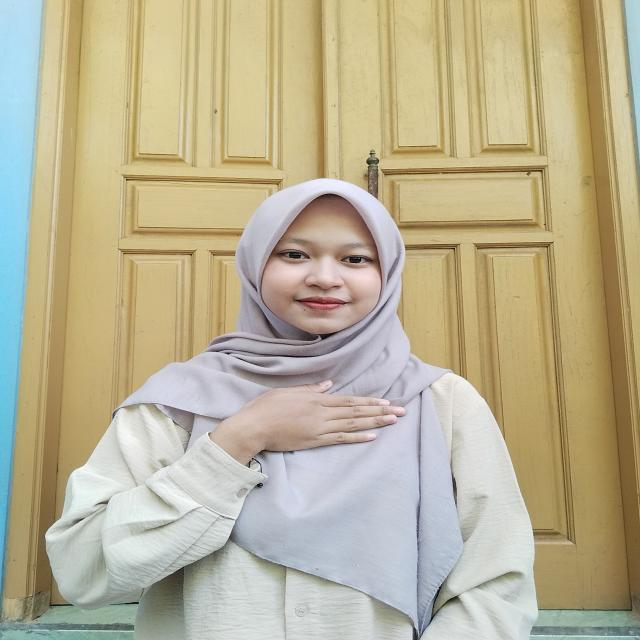tolong: (166, 375, 417, 494)
